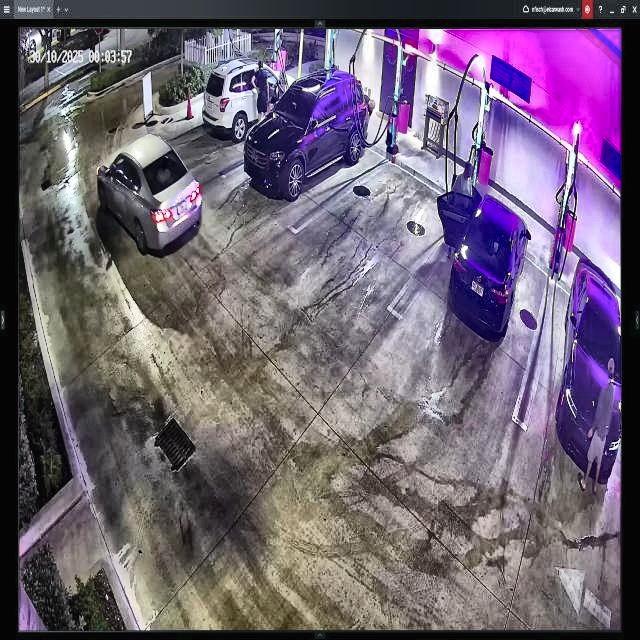Car: (243, 68, 369, 194), (441, 181, 531, 332), (96, 135, 202, 254)
